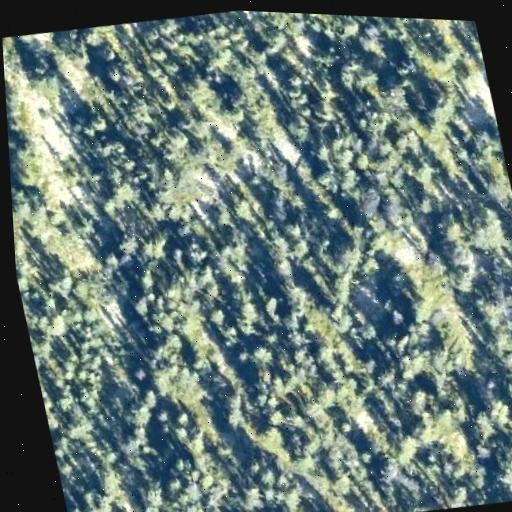tree-top: (146, 352, 212, 414), (401, 406, 462, 459), (46, 36, 99, 93), (462, 200, 512, 258), (8, 137, 49, 191), (482, 428, 512, 495), (473, 389, 512, 435), (212, 382, 252, 426), (428, 208, 470, 248), (27, 201, 64, 246), (277, 102, 318, 142), (19, 47, 60, 87), (75, 104, 114, 144), (131, 473, 170, 512), (157, 128, 195, 166), (116, 225, 154, 260), (177, 425, 214, 459), (75, 482, 116, 512), (424, 92, 458, 128), (446, 241, 479, 276), (182, 236, 213, 272), (116, 429, 149, 461), (403, 293, 436, 325), (243, 338, 277, 369), (353, 185, 388, 215), (328, 272, 361, 303), (371, 451, 404, 482), (321, 488, 363, 512), (201, 300, 233, 331), (284, 282, 312, 316), (43, 265, 73, 296), (122, 392, 152, 422), (110, 227, 141, 256), (261, 403, 288, 436), (132, 262, 161, 292), (150, 84, 181, 112), (39, 307, 71, 334), (442, 483, 472, 509), (315, 378, 342, 405), (93, 37, 121, 63), (241, 477, 266, 505), (495, 369, 512, 409), (337, 15, 362, 37)
